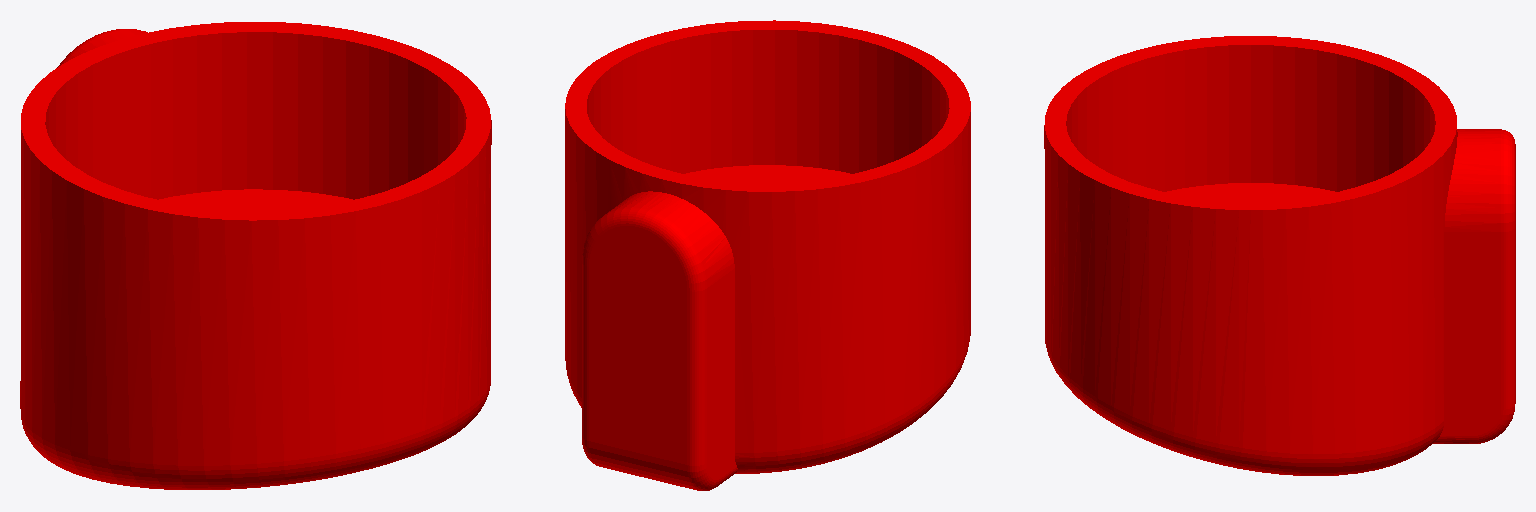
robot.urdf — tumbler:
<?xml version="1.0"?>

<robot name="tumbler">
  
  <link name="tumbler_cover">
    
    <contact>
      <restitution value="1.0e-8" />
      <!-- <lateral_friction value="1.0e+8"/> -->
      <!-- <rolling_friction value="1.0e+8"/> 
      <spinning_friction value="1.0e+8"/>  -->
      <contact_cfm value="0.00001"/>
      <contact_erp value="0.2"/>
    </contact>

    <inertial>
      <origin xyz="0 0 0" />
      <!-- <mass value="0.5" /> -->
      <mass value="1" />
      <!-- <mass value="0.1" /> -->
      <inertia  ixx="1.0" ixy="0.0"  ixz="0.0"  iyy="1.0"  iyz="0.0"  izz="1.0" />
    </inertial>

    <visual>
      <origin xyz="0 0 0"/>
      <!-- <geometry>
        <cylinder radius="0.02" length="0.01"/>
      </geometry> -->
      <geometry>
        <mesh filename="mesh/water_cap.STL" scale="1.0 1.0 1.0"/>
        <!-- <box size="0.04 0.04 0.02" /> -->
        <!-- <mesh filename="mesh/bottle_cap.stl" /> -->
      </geometry>
      <material name="green">
	      <color rgba="1.0 .0 .0 1.0"/>
      </material>
    </visual>
    
    <collision>
      <origin xyz="0 0 0"/>
      <!-- <geometry>
        <cylinder radius="0.02" length="0.01"/>
      </geometry> -->
      <geometry>
        <mesh filename="mesh/water_cap.STL" scale="1.0 1.0 1.0"/>
        <!-- <box size="0.04 0.04 0.02" /> -->
        <!-- <mesh filename="mesh/bottle_cap.stl" /> -->
      </geometry>
    </collision>
  
  </link>

</robot>

--- Facts derived from the render (not from the file) ---
3 views of the same robot in one strip: view 1: azimuth 30°, elevation 25°; view 2: azimuth 150°, elevation 25°; view 3: azimuth 270°, elevation 25° (orthographic).
Robot: tumbler — 1 links, 0 joints (none); root link tumbler_cover; default pose: every joint at zero.
Visible links, largest first — view 1: tumbler_cover; view 2: tumbler_cover; view 3: tumbler_cover.
Boxes of the visible links, x1,y1,x2,y2 form: tumbler_cover: (20, 22, 491, 489); tumbler_cover: (565, 20, 970, 490); tumbler_cover: (1044, 36, 1515, 475).
Size in the robot's own frame: 0.057 by 0.065 by 0.0459 metres.
1 mesh visuals loaded from 1 distinct referenced files (1 binary STL).